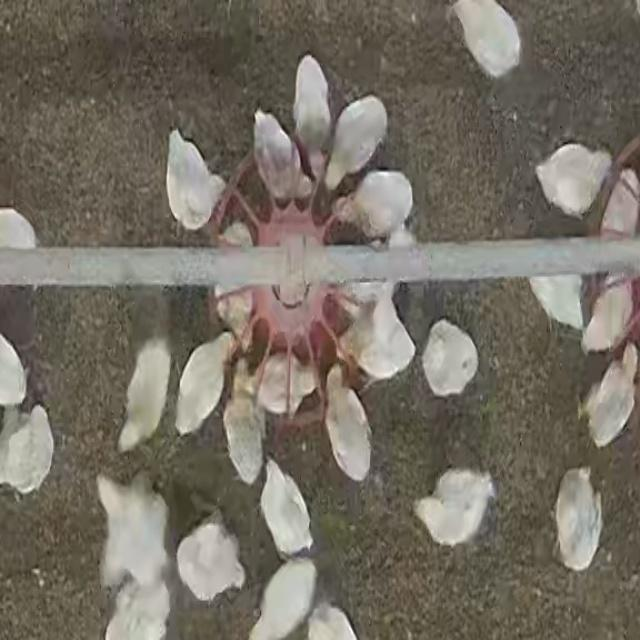chicken: (97, 465, 167, 586), (416, 467, 496, 553), (115, 341, 170, 459), (342, 299, 416, 386), (0, 404, 61, 506), (172, 517, 244, 603), (171, 334, 231, 437), (249, 107, 311, 201), (167, 129, 223, 231), (262, 457, 316, 561), (252, 558, 320, 640), (327, 98, 385, 191), (585, 348, 640, 446), (330, 174, 414, 238), (323, 376, 372, 484), (541, 146, 610, 222), (455, 0, 521, 78), (293, 49, 332, 178), (227, 356, 266, 485), (555, 462, 600, 572), (217, 228, 254, 351), (426, 319, 478, 396), (584, 278, 635, 354), (252, 361, 321, 415), (104, 587, 168, 640), (532, 271, 584, 335), (597, 169, 638, 242), (0, 330, 32, 405), (311, 598, 357, 640)
